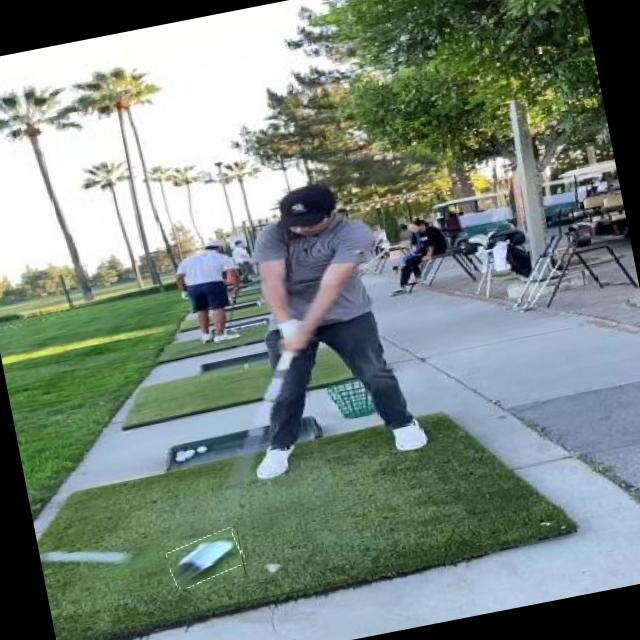club head: (166, 530, 247, 588)
